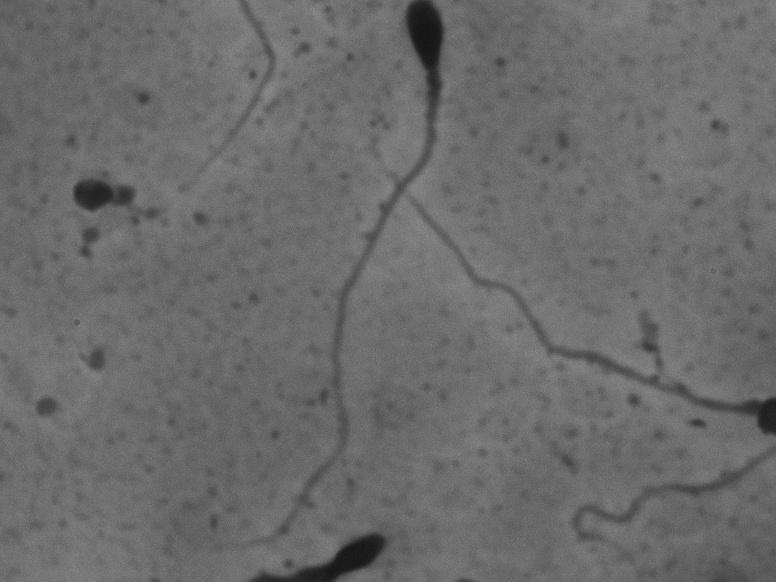Abnormal: (177, 0, 462, 567)
